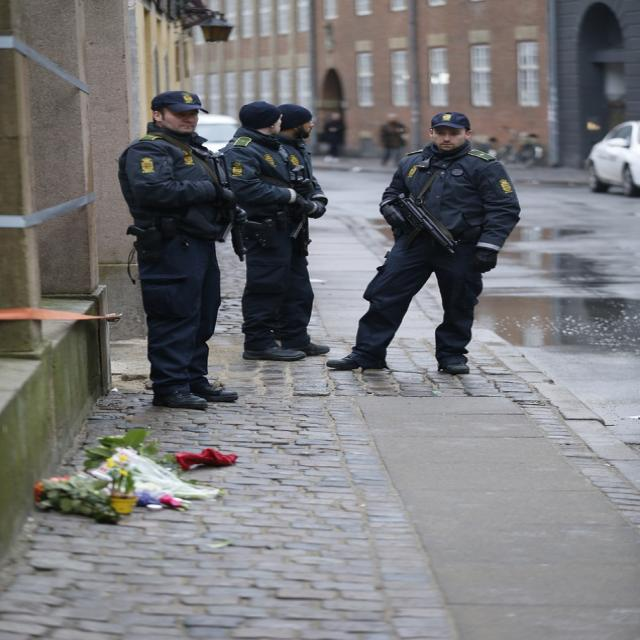body: (324, 110, 521, 374), (115, 89, 239, 410), (216, 100, 329, 362), (276, 103, 328, 256), (477, 131, 547, 170), (376, 112, 409, 168), (320, 111, 346, 164)
